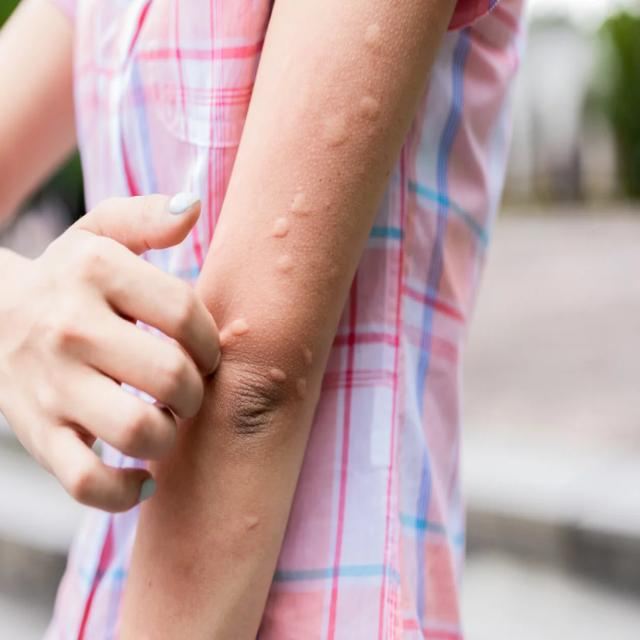piel: (0, 0, 457, 639)
